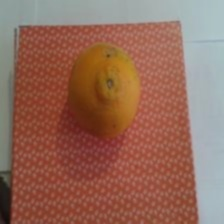orange: (31, 39, 169, 186)
